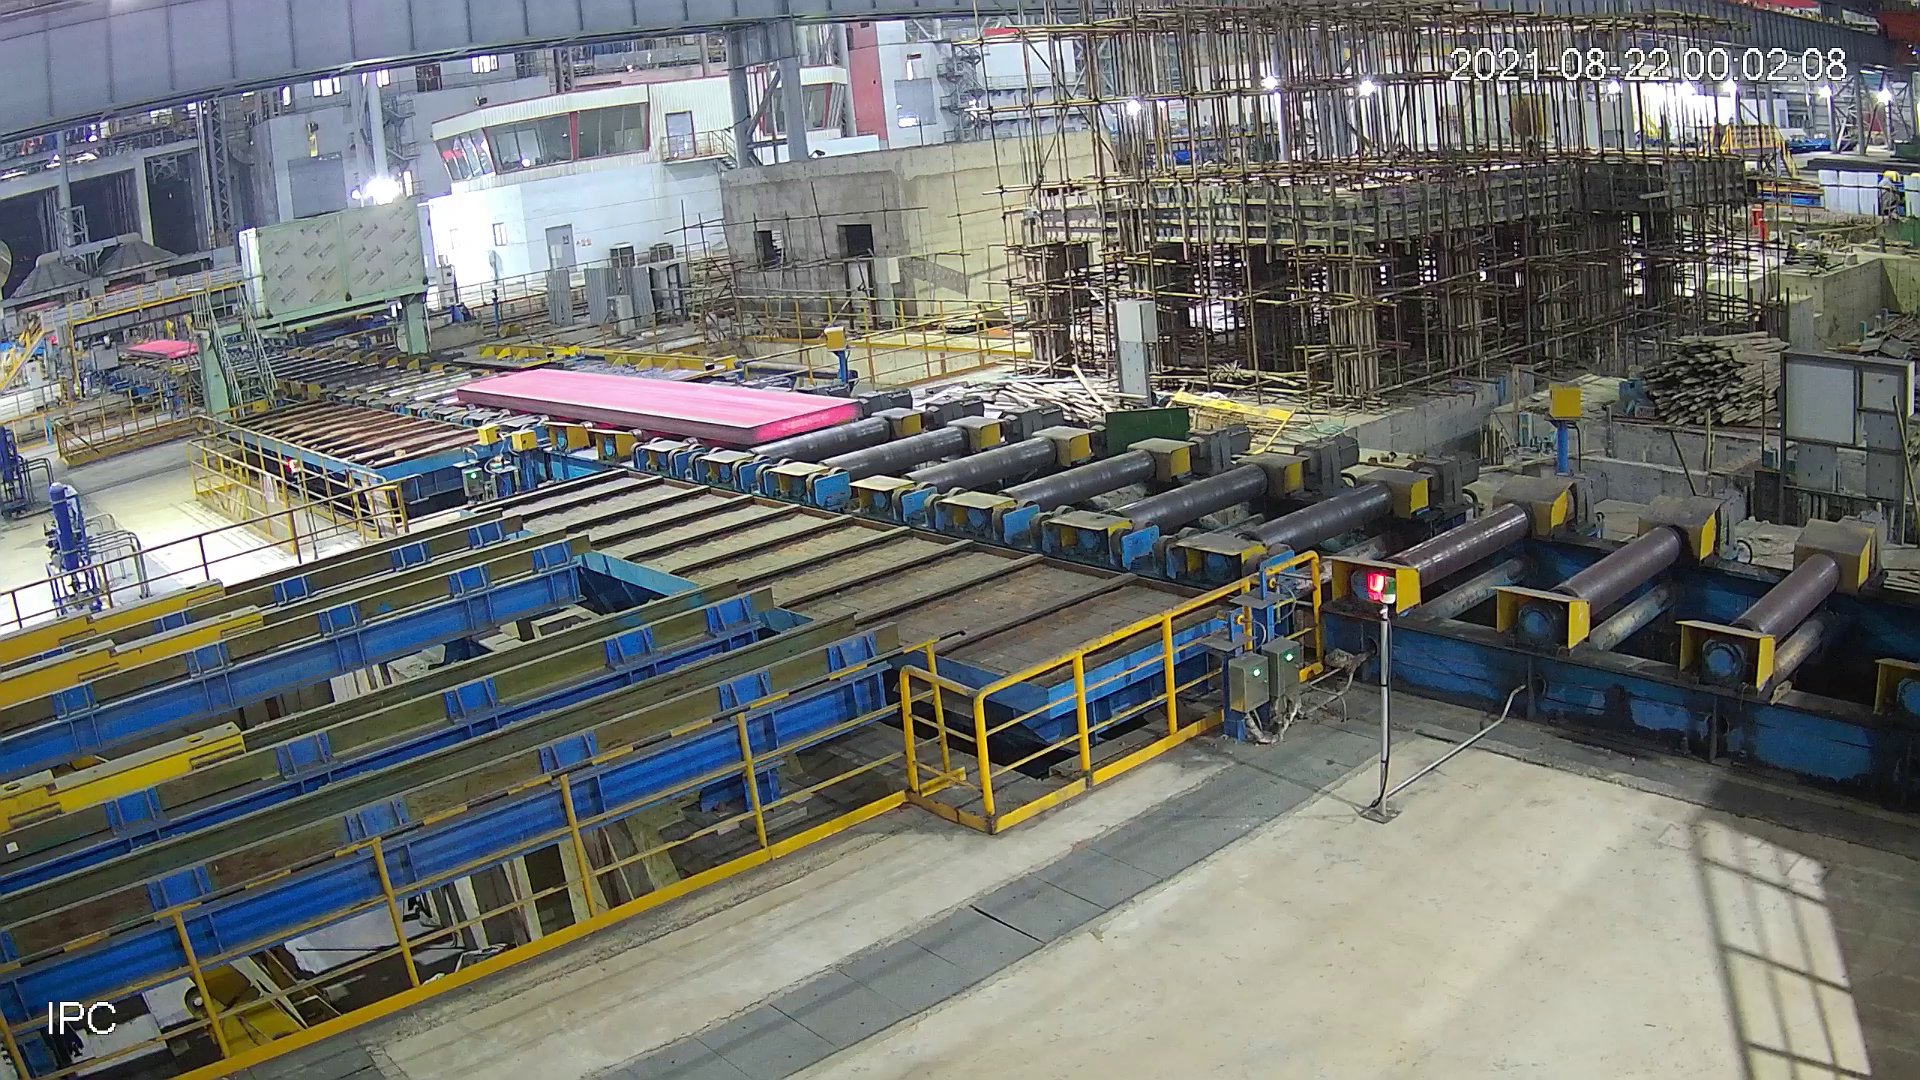slab: (452, 363, 858, 451), (127, 332, 200, 357)
